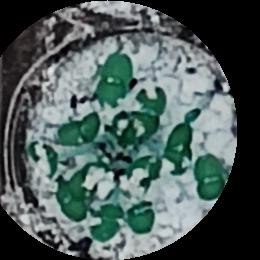Basil: (91, 50, 128, 109), (121, 88, 169, 133), (56, 108, 108, 145), (185, 148, 223, 197), (55, 178, 87, 223), (131, 194, 162, 235), (169, 116, 191, 171), (93, 204, 126, 240)
